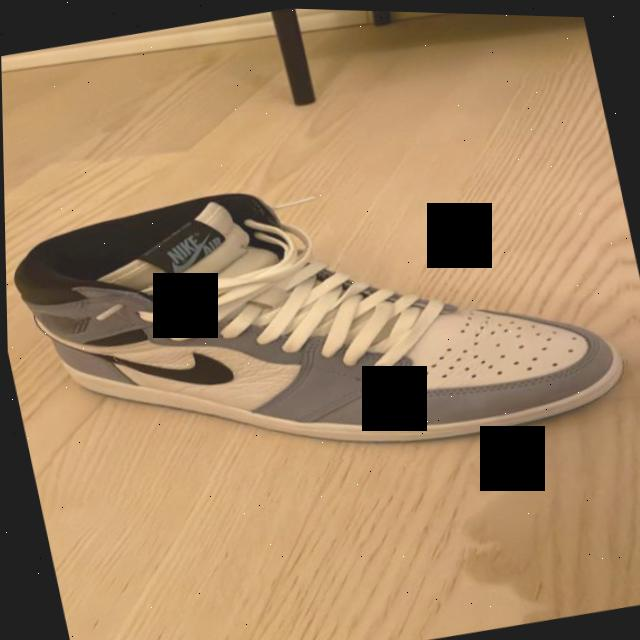shoe: (2, 116, 640, 518)
